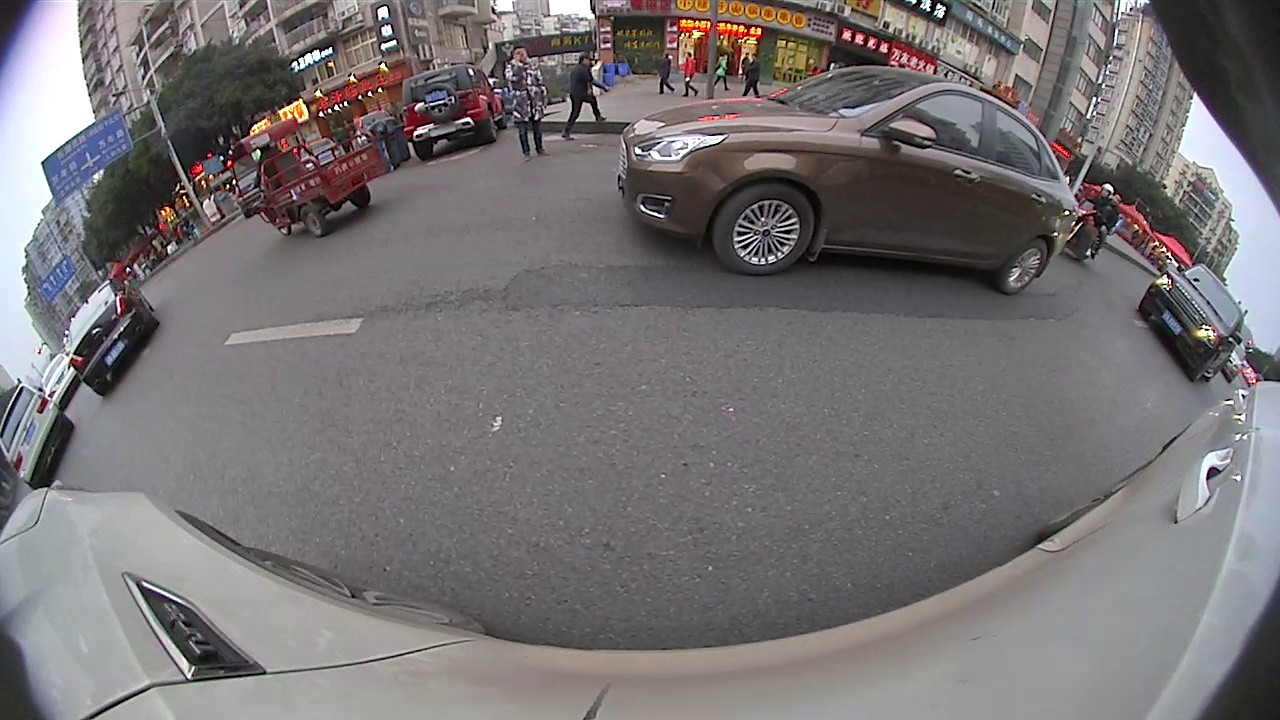car: (616, 64, 1082, 299), (1138, 263, 1248, 384), (64, 275, 162, 398), (399, 61, 508, 161), (1, 381, 75, 491), (37, 352, 82, 414)
front: (709, 179, 818, 278)
person: (506, 46, 547, 162)
rear: (995, 238, 1051, 296), (298, 205, 330, 240)
rider: (225, 113, 387, 240), (1067, 178, 1125, 263)
